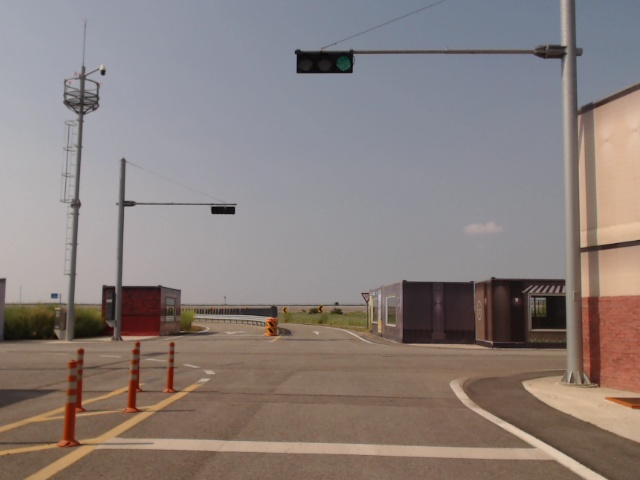green_3: (296, 51, 353, 73)
